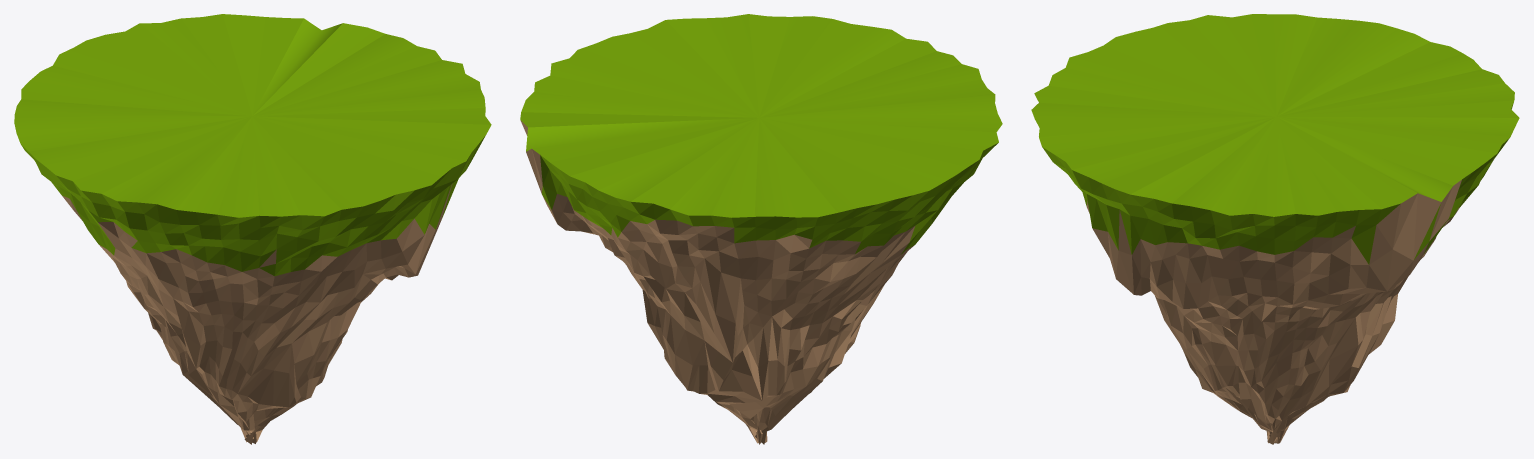
The model's file is LEVEL1_LAND.fbx.
3 renders of one model, left to right at view 1: azimuth 30°, elevation 25°; view 2: azimuth 150°, elevation 25°; view 3: azimuth 270°, elevation 25°, orthographic.
Parts seen in each view (by area): view 1: Cone_2; view 2: Cone_2; view 3: Cone_2.
Part boxes in pixels (x1=…): Cone_2: x1=14, y1=14, x2=491, y2=444; Cone_2: x1=520, y1=14, x2=1002, y2=444; Cone_2: x1=1031, y1=14, x2=1519, y2=444.
Bounding box in the file's own units: 4616 × 3479 × 4645.
